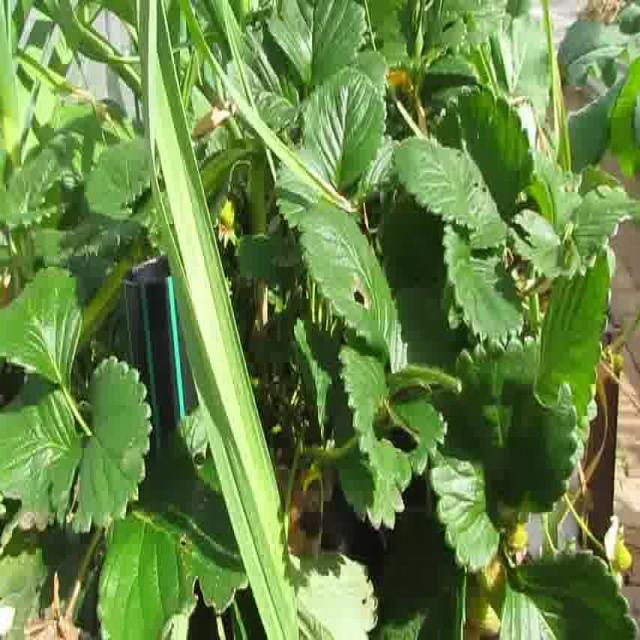Fruta sana: (466, 556, 506, 634), (610, 541, 634, 572), (506, 521, 528, 547), (220, 198, 236, 229)
Moho gris: (25, 617, 81, 640)
